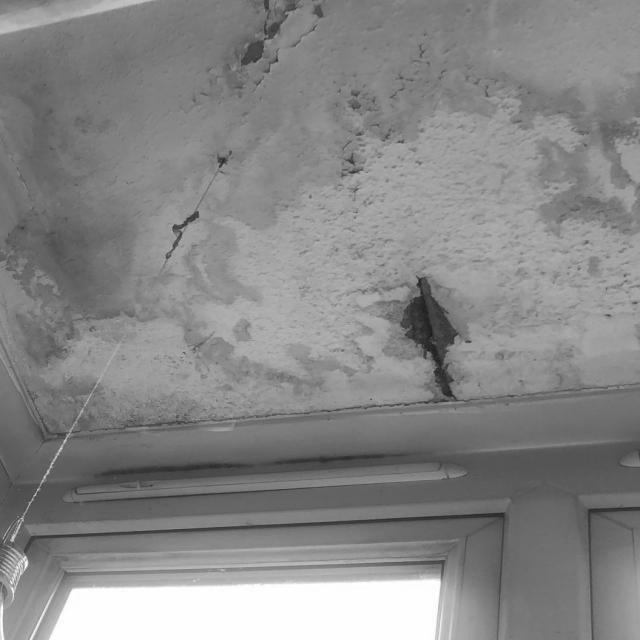stain marks: (0, 2, 640, 427)
